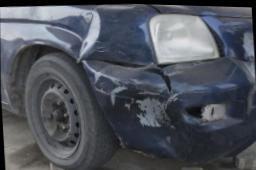Bumper: (86, 57, 256, 164)
Fender: (17, 5, 157, 61)
